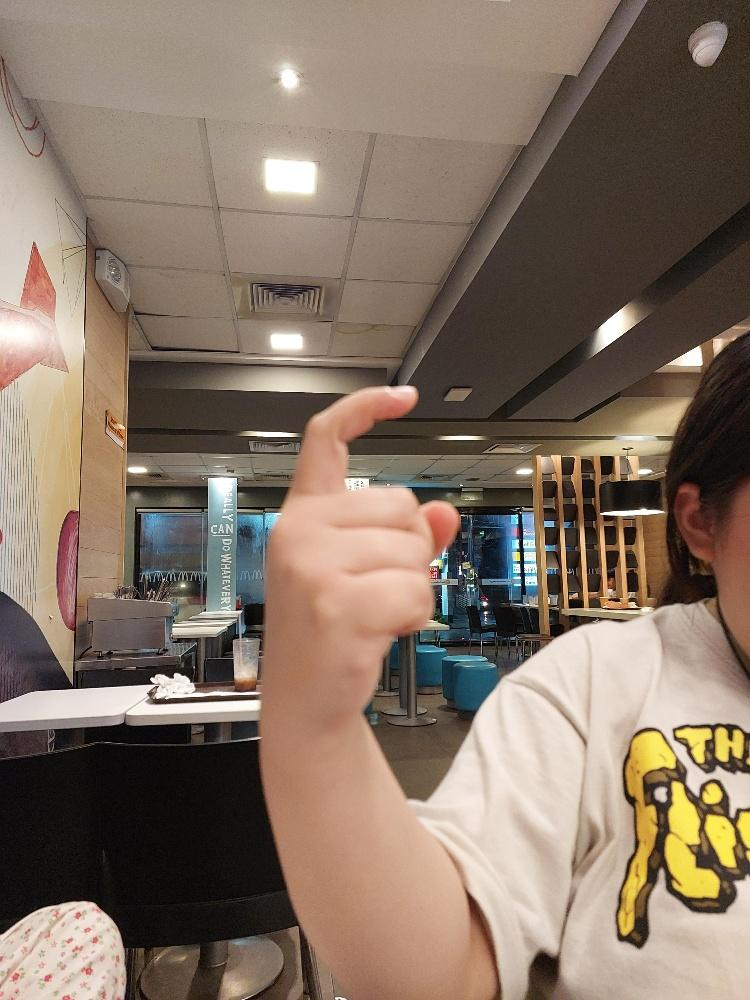x: (256, 380, 463, 727)
